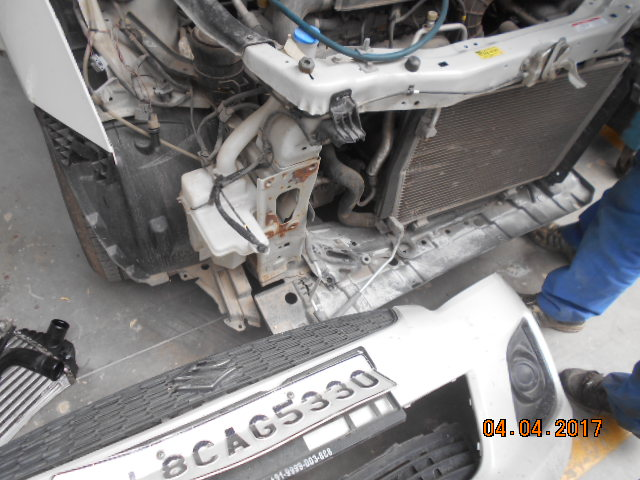Large_tear_or_damage: (49, 49, 639, 317)
